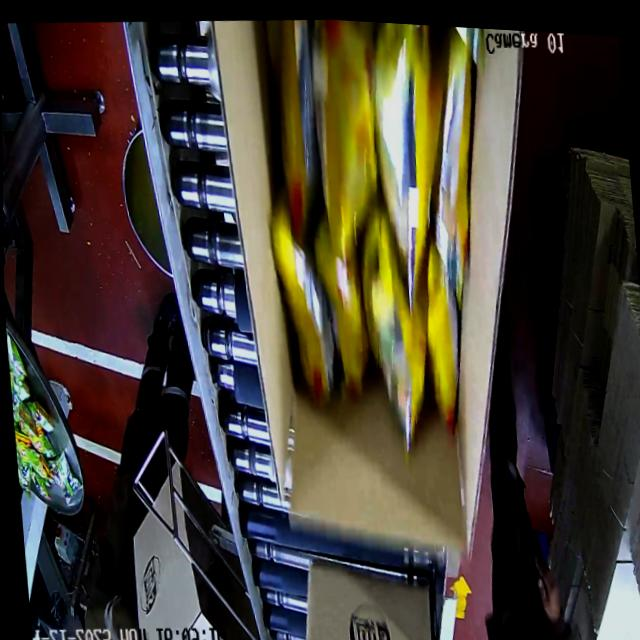SALTED: (245, 15, 512, 472)
